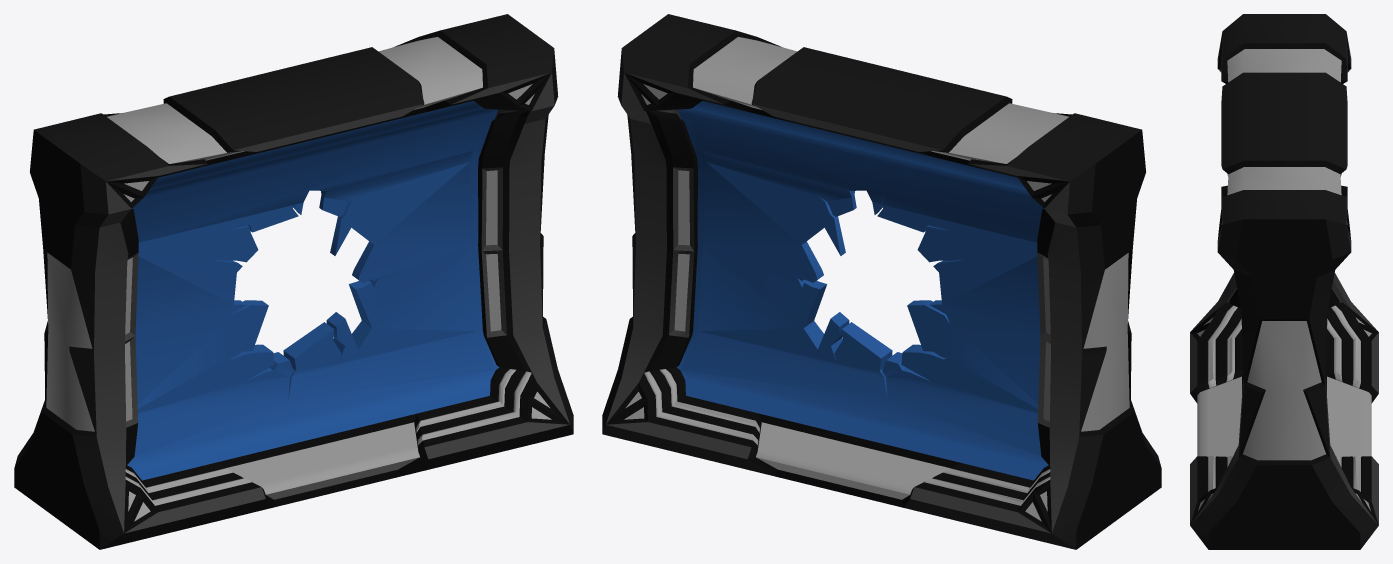
The model's file is Window Broken_Centre.FBX.
The picture shows the model from 3 angles, left to right: view 1: azimuth 30°, elevation 25°; view 2: azimuth 150°, elevation 25°; view 3: azimuth 270°, elevation 25°; orthographic projection. The views are drawn at different scales.
Parts seen in each view (by area): view 1: Window; view 2: Window; view 3: Window.
Boxes of the visible parts, x1,y1,x2,y2 form: Window: (14, 14, 573, 549); Window: (602, 14, 1161, 549); Window: (1190, 14, 1378, 549).
Bounding box in the file's own units: 400 × 300 × 155.
